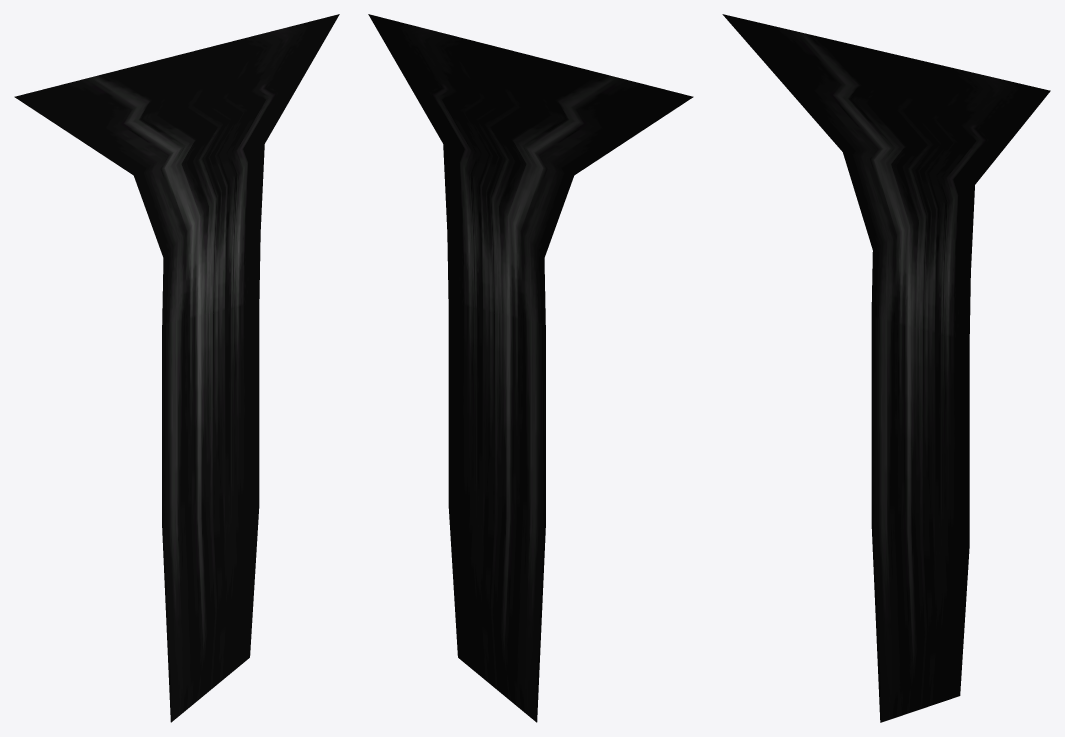
Rendered from worldmap_01.FBX.
3 views of the same model, side by side, from view 1: azimuth 30°, elevation 25°; view 2: azimuth 150°, elevation 25°; view 3: azimuth 330°, elevation 25° (orthographic).
Parts seen in each view (by area): view 1: Plane002; view 2: Plane002; view 3: Plane002.
Boxes of the visible parts, bbox=[...] form: Plane002: bbox=[14, 14, 339, 722]; Plane002: bbox=[368, 14, 693, 722]; Plane002: bbox=[722, 14, 1050, 722].
Size of the model in its own units: 32.88 by 64.38 by 1.21e-05.
1 material, 1 textured.
